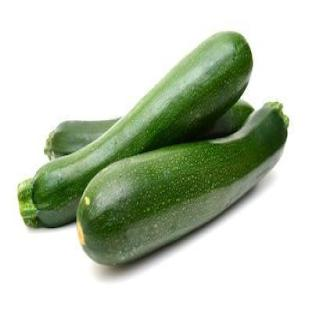Zucchini: (18, 33, 252, 226), (77, 104, 288, 265), (45, 119, 118, 159)
